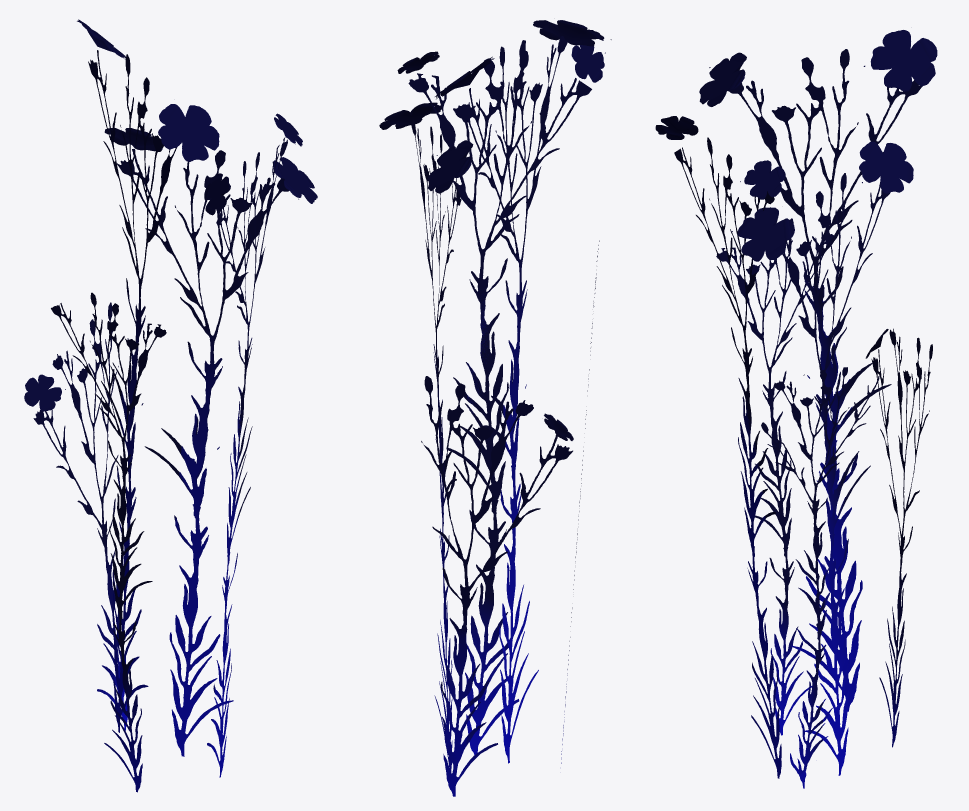
File: SM_Foliage_FlaxA_06.fbx
3 renders of one model, left to right at view 1: azimuth 30°, elevation 25°; view 2: azimuth 150°, elevation 25°; view 3: azimuth 270°, elevation 25°, orthographic. The views are drawn at different scales.
Visible parts, largest first — view 1: SM_Foliage_FlaxA_06; view 2: SM_Foliage_FlaxA_06; view 3: SM_Foliage_FlaxA_06.
Boxes of the visible parts, x1,y1,x2,y2 form: SM_Foliage_FlaxA_06: (24,19,317,792); SM_Foliage_FlaxA_06: (379,20,611,796); SM_Foliage_FlaxA_06: (655,30,937,788).
Bounding box in the file's own units: 41.46 × 46.24 × 120.
